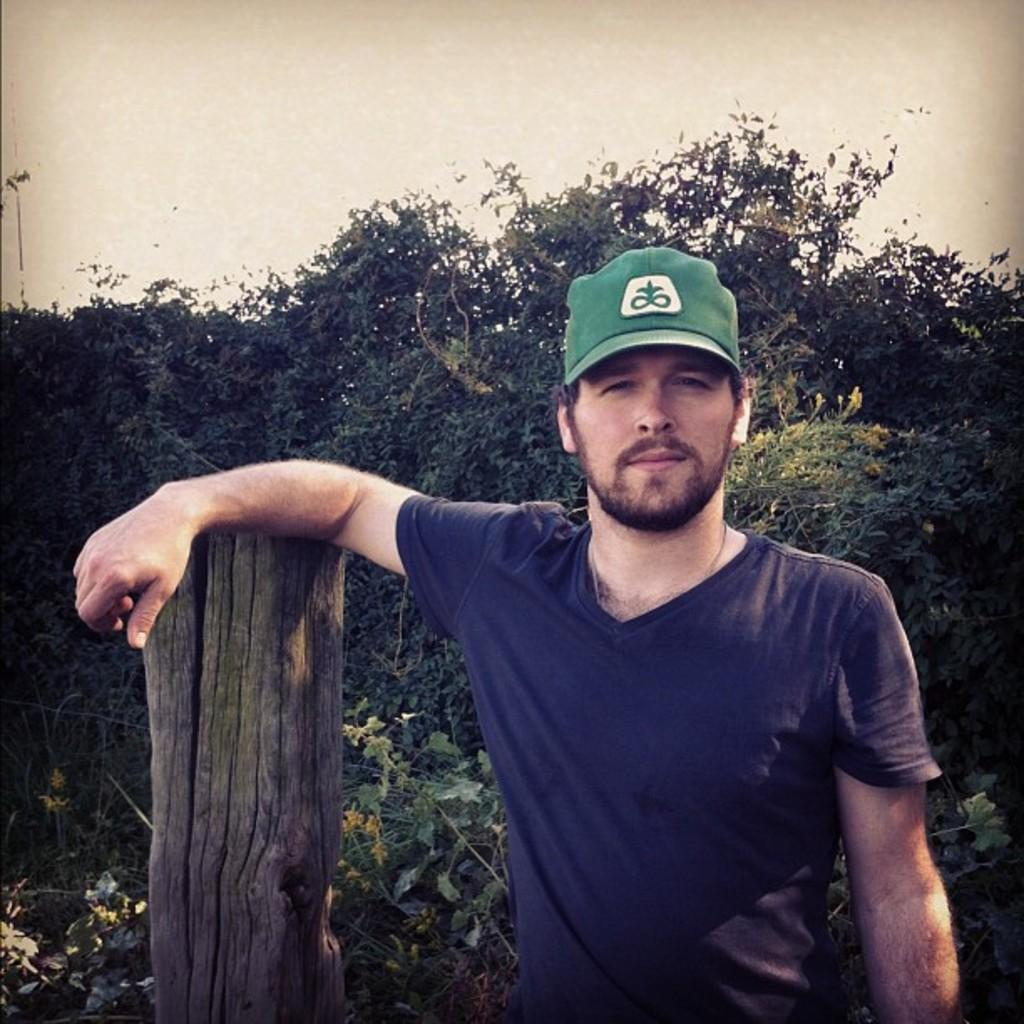Hat: (564, 246, 742, 386)
